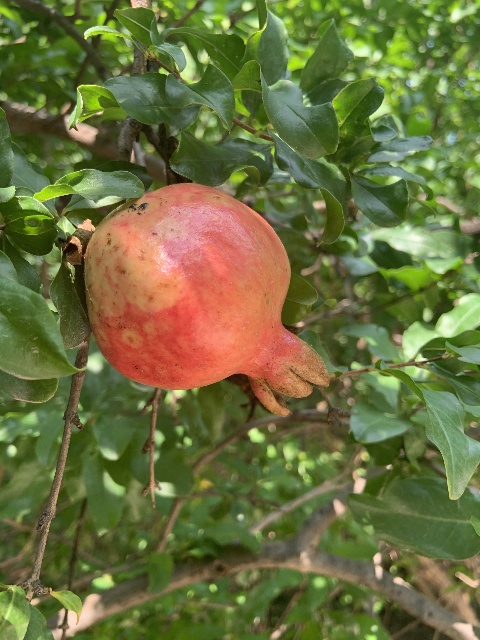ripe: (85, 183, 329, 415)
